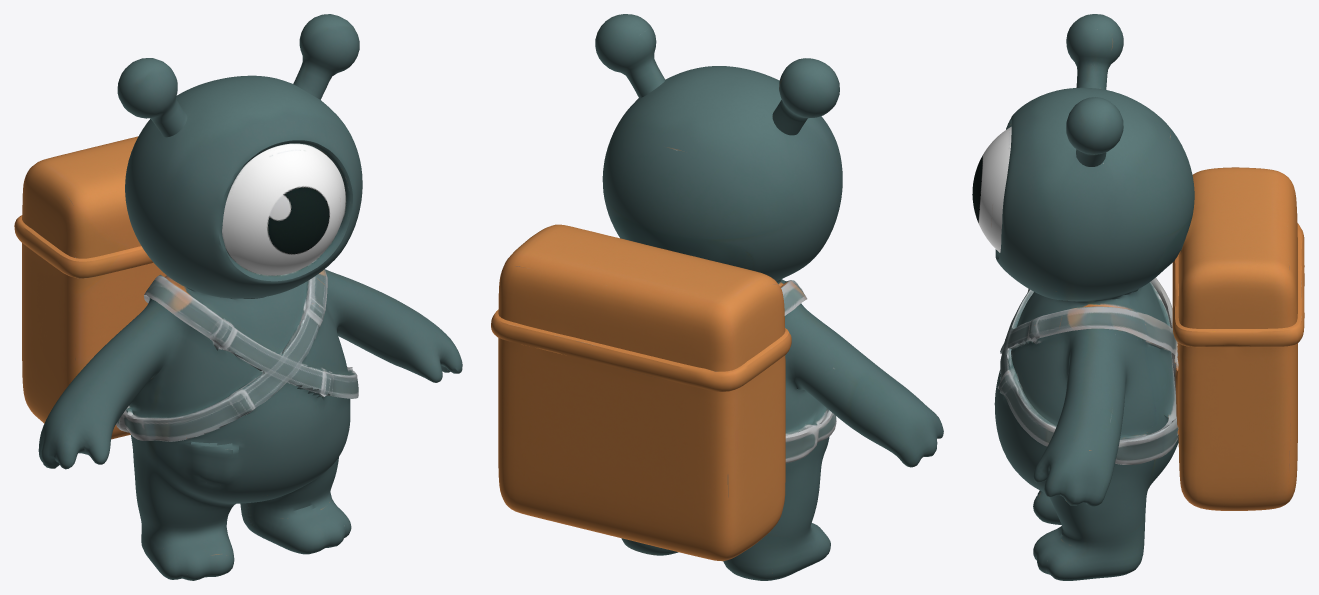
The model's file is mascot.glb.
3 views of the same model, side by side, from view 1: azimuth 30°, elevation 25°; view 2: azimuth 150°, elevation 25°; view 3: azimuth 270°, elevation 25° (orthographic). The views are drawn at different scales.
Size of the model in its own units: 1.61 by 1.9 by 1.18.
1 material, 1 textured.
